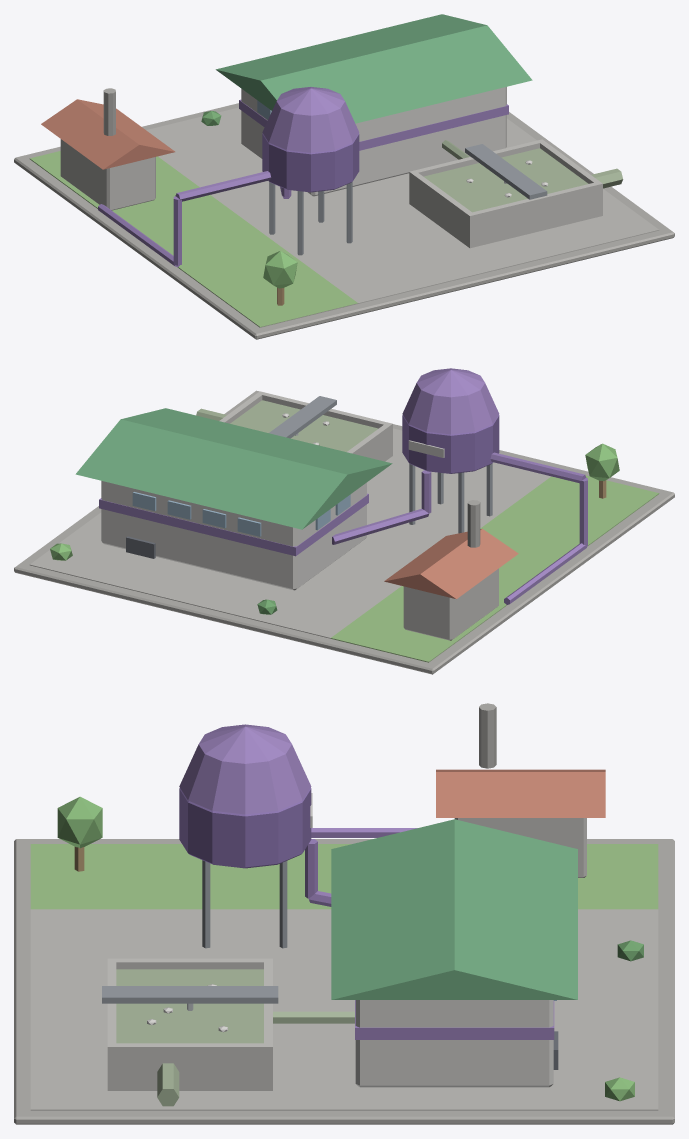
The model's file is agua__usina_reuso_agua.glb.
3 renders of one model, top to bottom at view 1: azimuth 30°, elevation 25°; view 2: azimuth 150°, elevation 25°; view 3: azimuth 270°, elevation 25°, orthographic. The views are drawn at different scales.
Visible parts, largest first — view 1: agua__usina_reuso_agua; view 2: agua__usina_reuso_agua; view 3: agua__usina_reuso_agua.
Part boxes in pixels (bbox=[...]): agua__usina_reuso_agua: bbox=[14, 14, 674, 339]; agua__usina_reuso_agua: bbox=[14, 368, 674, 674]; agua__usina_reuso_agua: bbox=[14, 703, 674, 1124].
Bounding box in the file's own units: 6 × 2.26 × 6.
